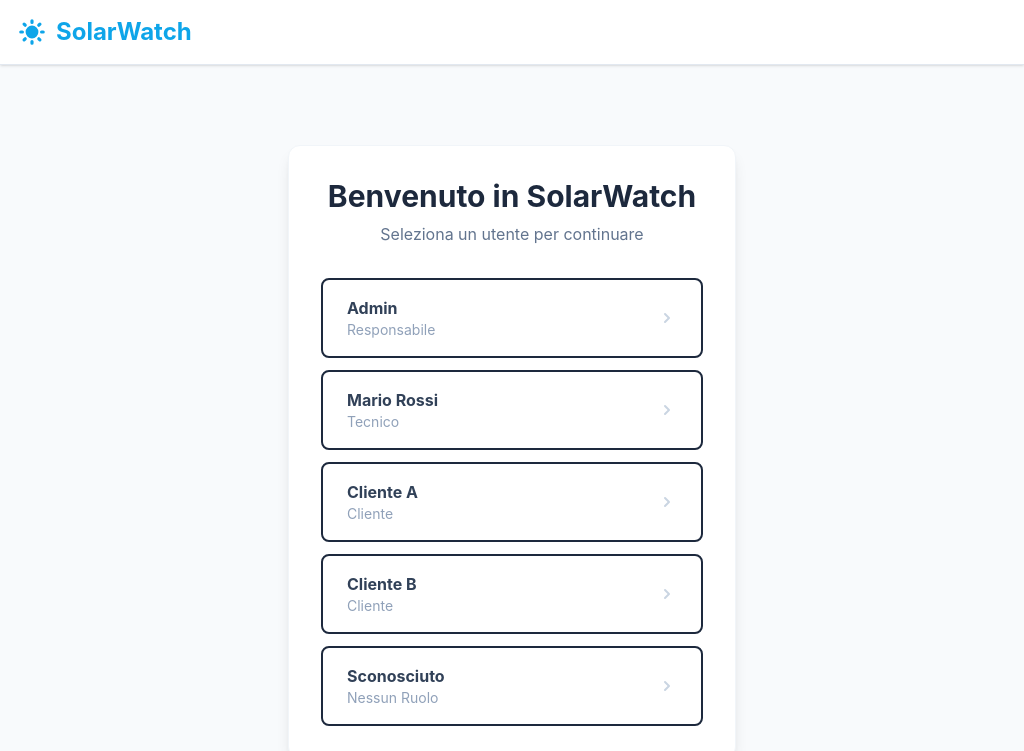
Test: Gestione Impianti › [POSITIVO] Il tecnico vede la sezione Gestione Impianti in Admin
The image size is (1024, 751).
What coordinates should you click on to do the following:
click the button "Mario Rossi tecnico"
I would click on:
 (393, 400)
Its box is [321,370,703,450].
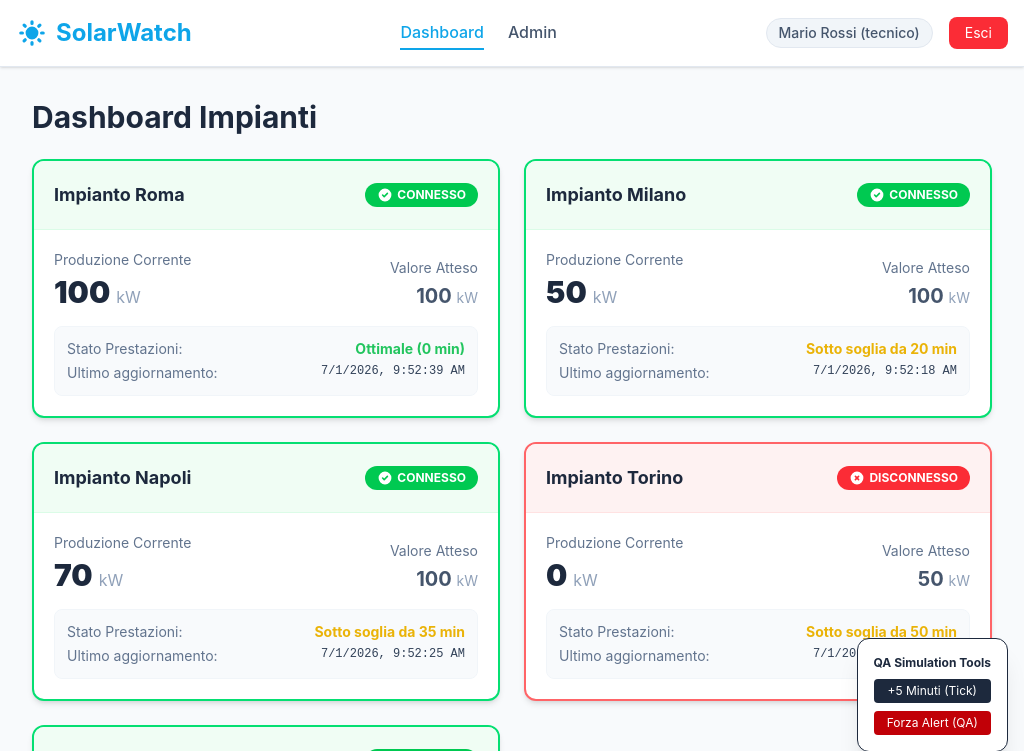
What coordinates should you click on to do the following:
click the link "Admin"
I would click on:
 (533, 32)
Its box is [508,22,557,42].
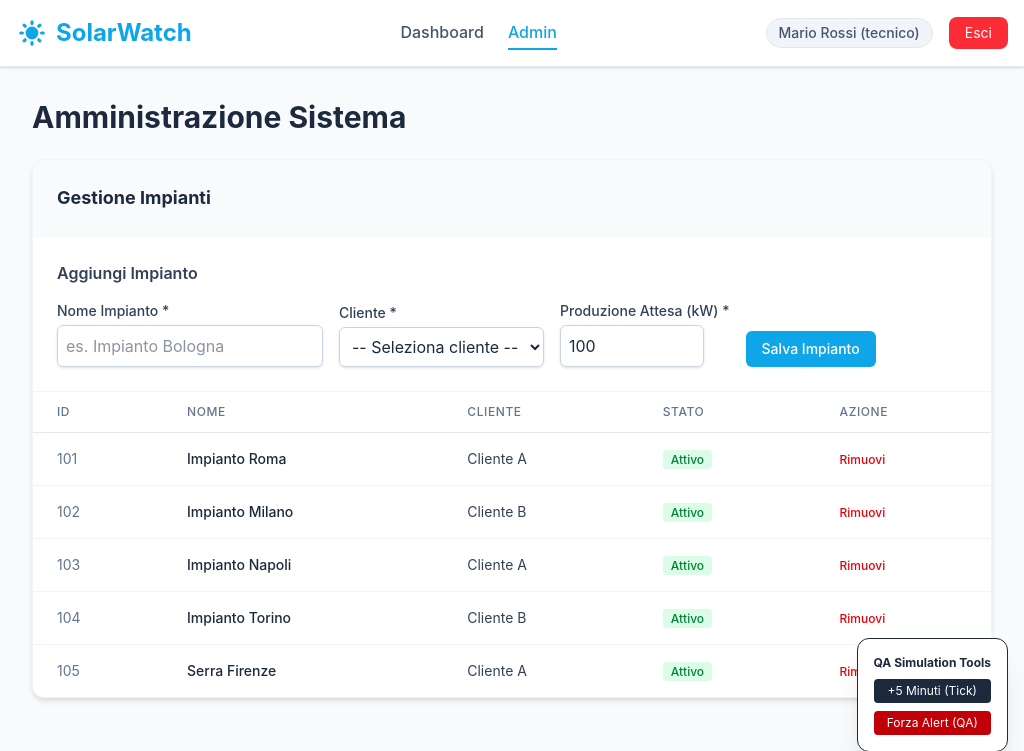
Result: the heading "Gestione Impianti" is shown at [57,187,211,208]
Result: the form with test id "add-plant-form" is shown at [57,301,967,367]
